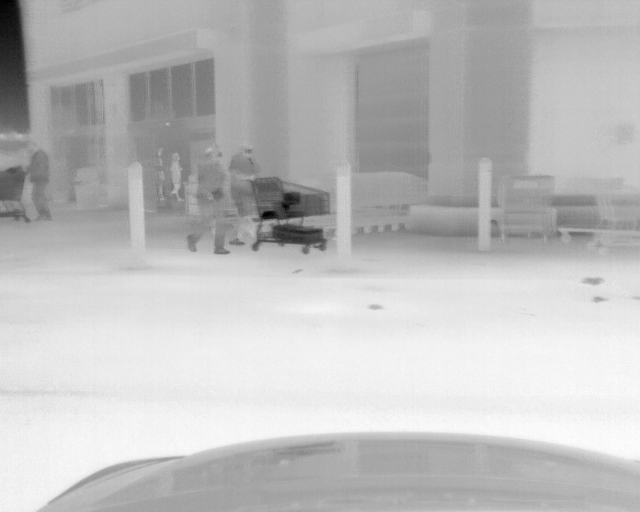people: (185, 148, 228, 254), (229, 141, 261, 244), (22, 143, 53, 219), (168, 152, 184, 201), (155, 146, 164, 201)
